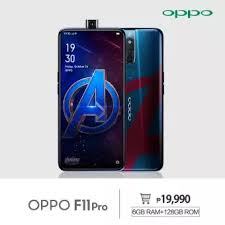oppo: (54, 26, 125, 172)
